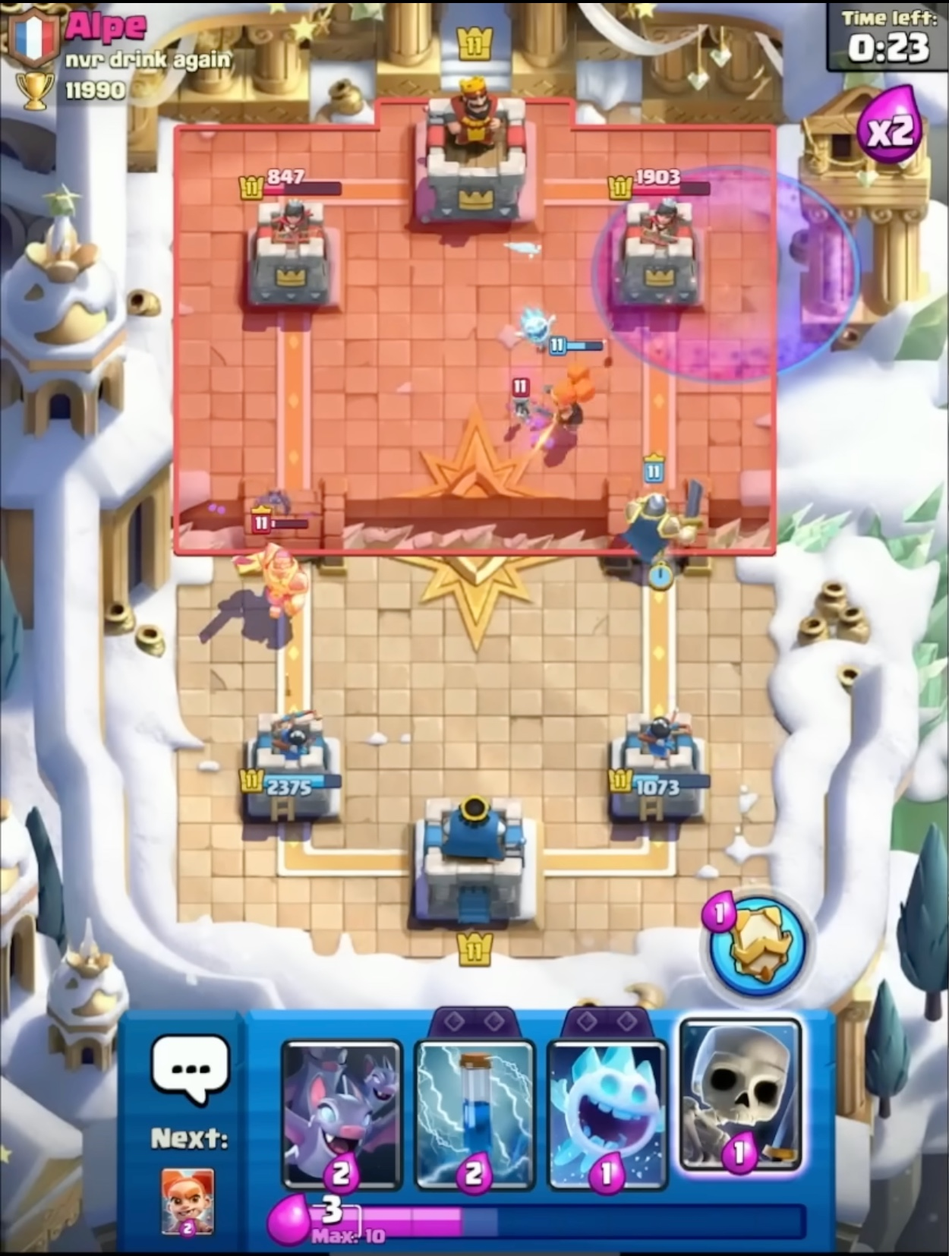hero-knight: (233, 504, 322, 632)
